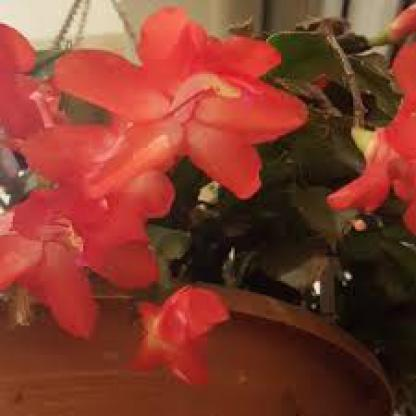Aglonema: (8, 111, 416, 283)
